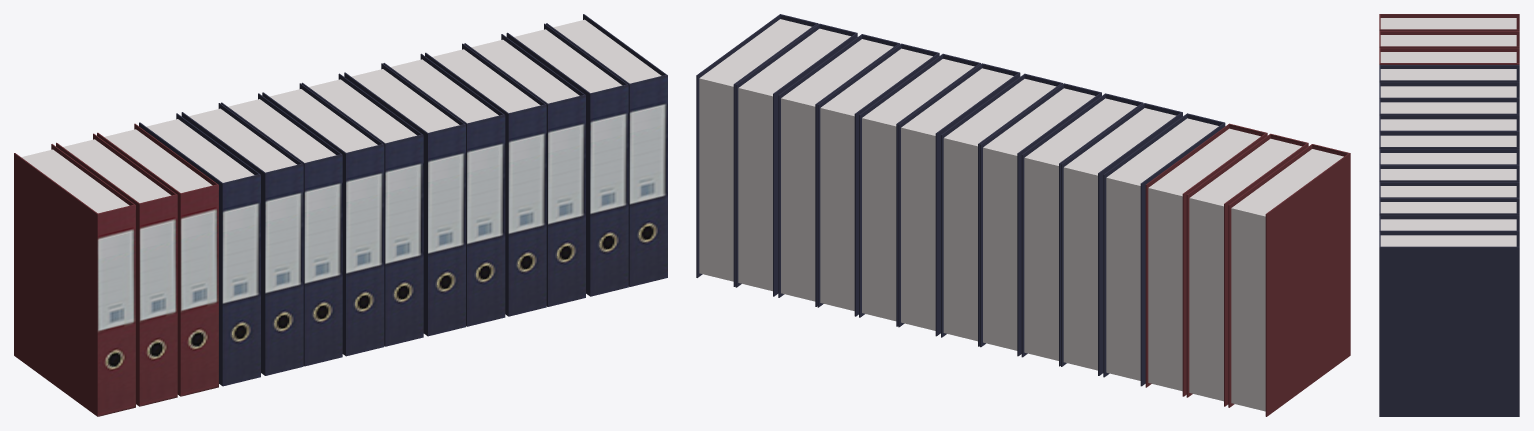
Rendered from Files 3.FBX.
3 renders of one model, left to right at view 1: azimuth 30°, elevation 25°; view 2: azimuth 150°, elevation 25°; view 3: azimuth 270°, elevation 25°, orthographic. The views are drawn at different scales.
Parts seen in each view (by area): view 1: Files 3; view 2: Files 3; view 3: Files 3.
Boxes of the visible parts, x1,y1,x2,y2 form: Files 3: [14, 14, 667, 416]; Files 3: [696, 14, 1350, 416]; Files 3: [1379, 14, 1519, 416].
Bounding box in the file's own units: 71.13 × 24.15 × 18.11.
Materials: 1 (1 with a texture image).
